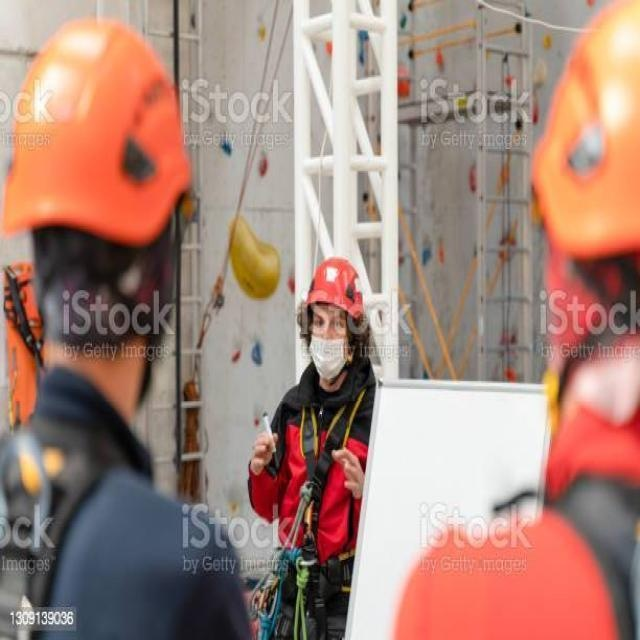Arnes_seguridad: (263, 361, 374, 640)
